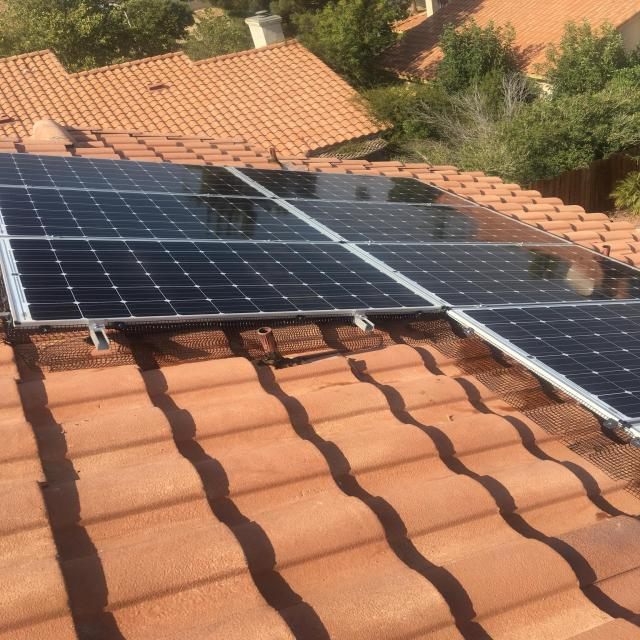clean-solar-panel: (0, 147, 640, 466)
